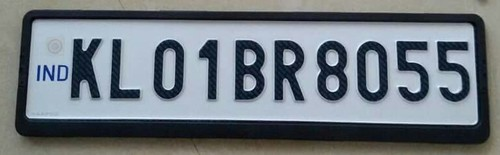number_plate: (16, 7, 495, 134)
